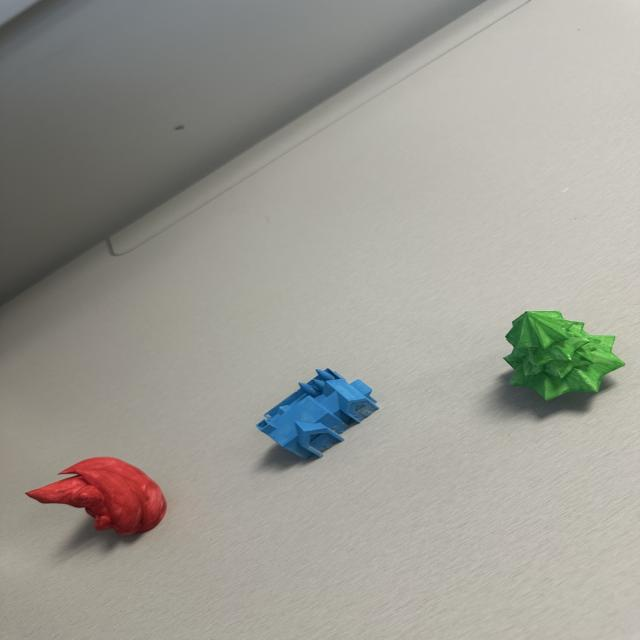fire: (24, 454, 168, 536)
house: (254, 366, 380, 460)
tree: (501, 308, 625, 402)
